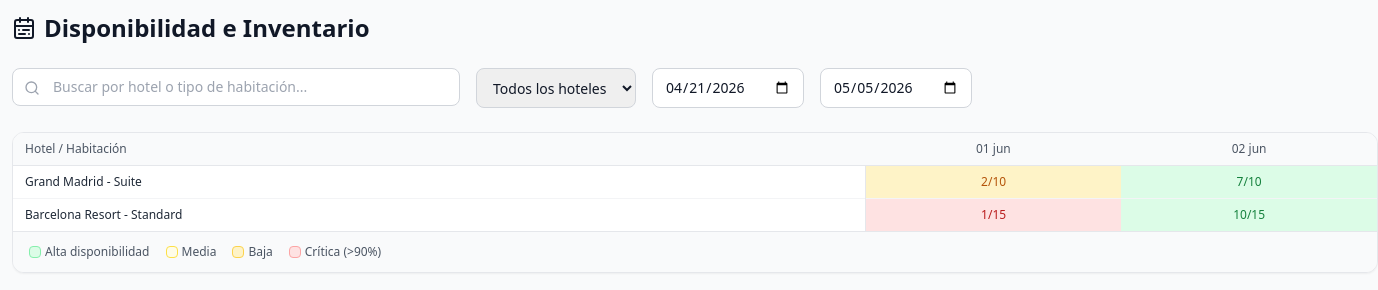
Test: AvailabilityPage › should filter by search text - room type
This screenshot has width=1378, height=290.
expect the text "Grand Madrid - Suite" is shown: met, box [13,166,866,198]
Type "suite" into the field with placeholder "Buscar por hotel o tipo de habitación..." at (236,87), box [12,68,460,106]
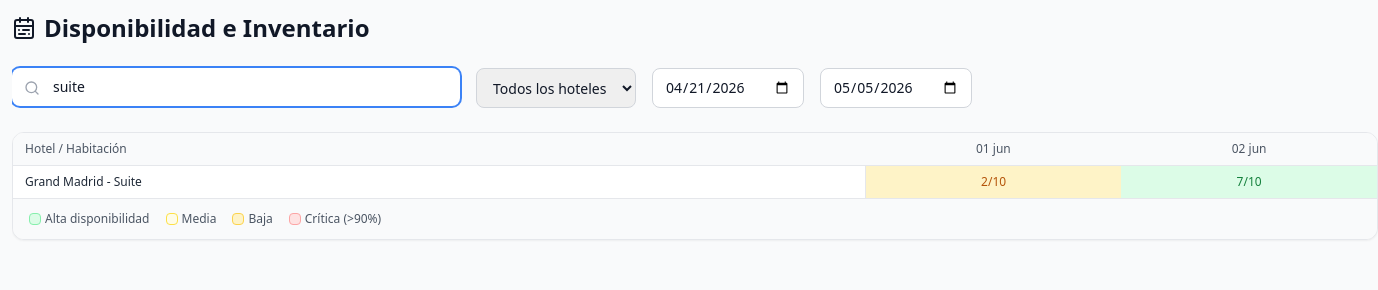
expect the text "Grand Madrid - Suite" is shown: met, box [13,166,866,198]
expect the text "Barcelona Resort - Standard" is gone: met
